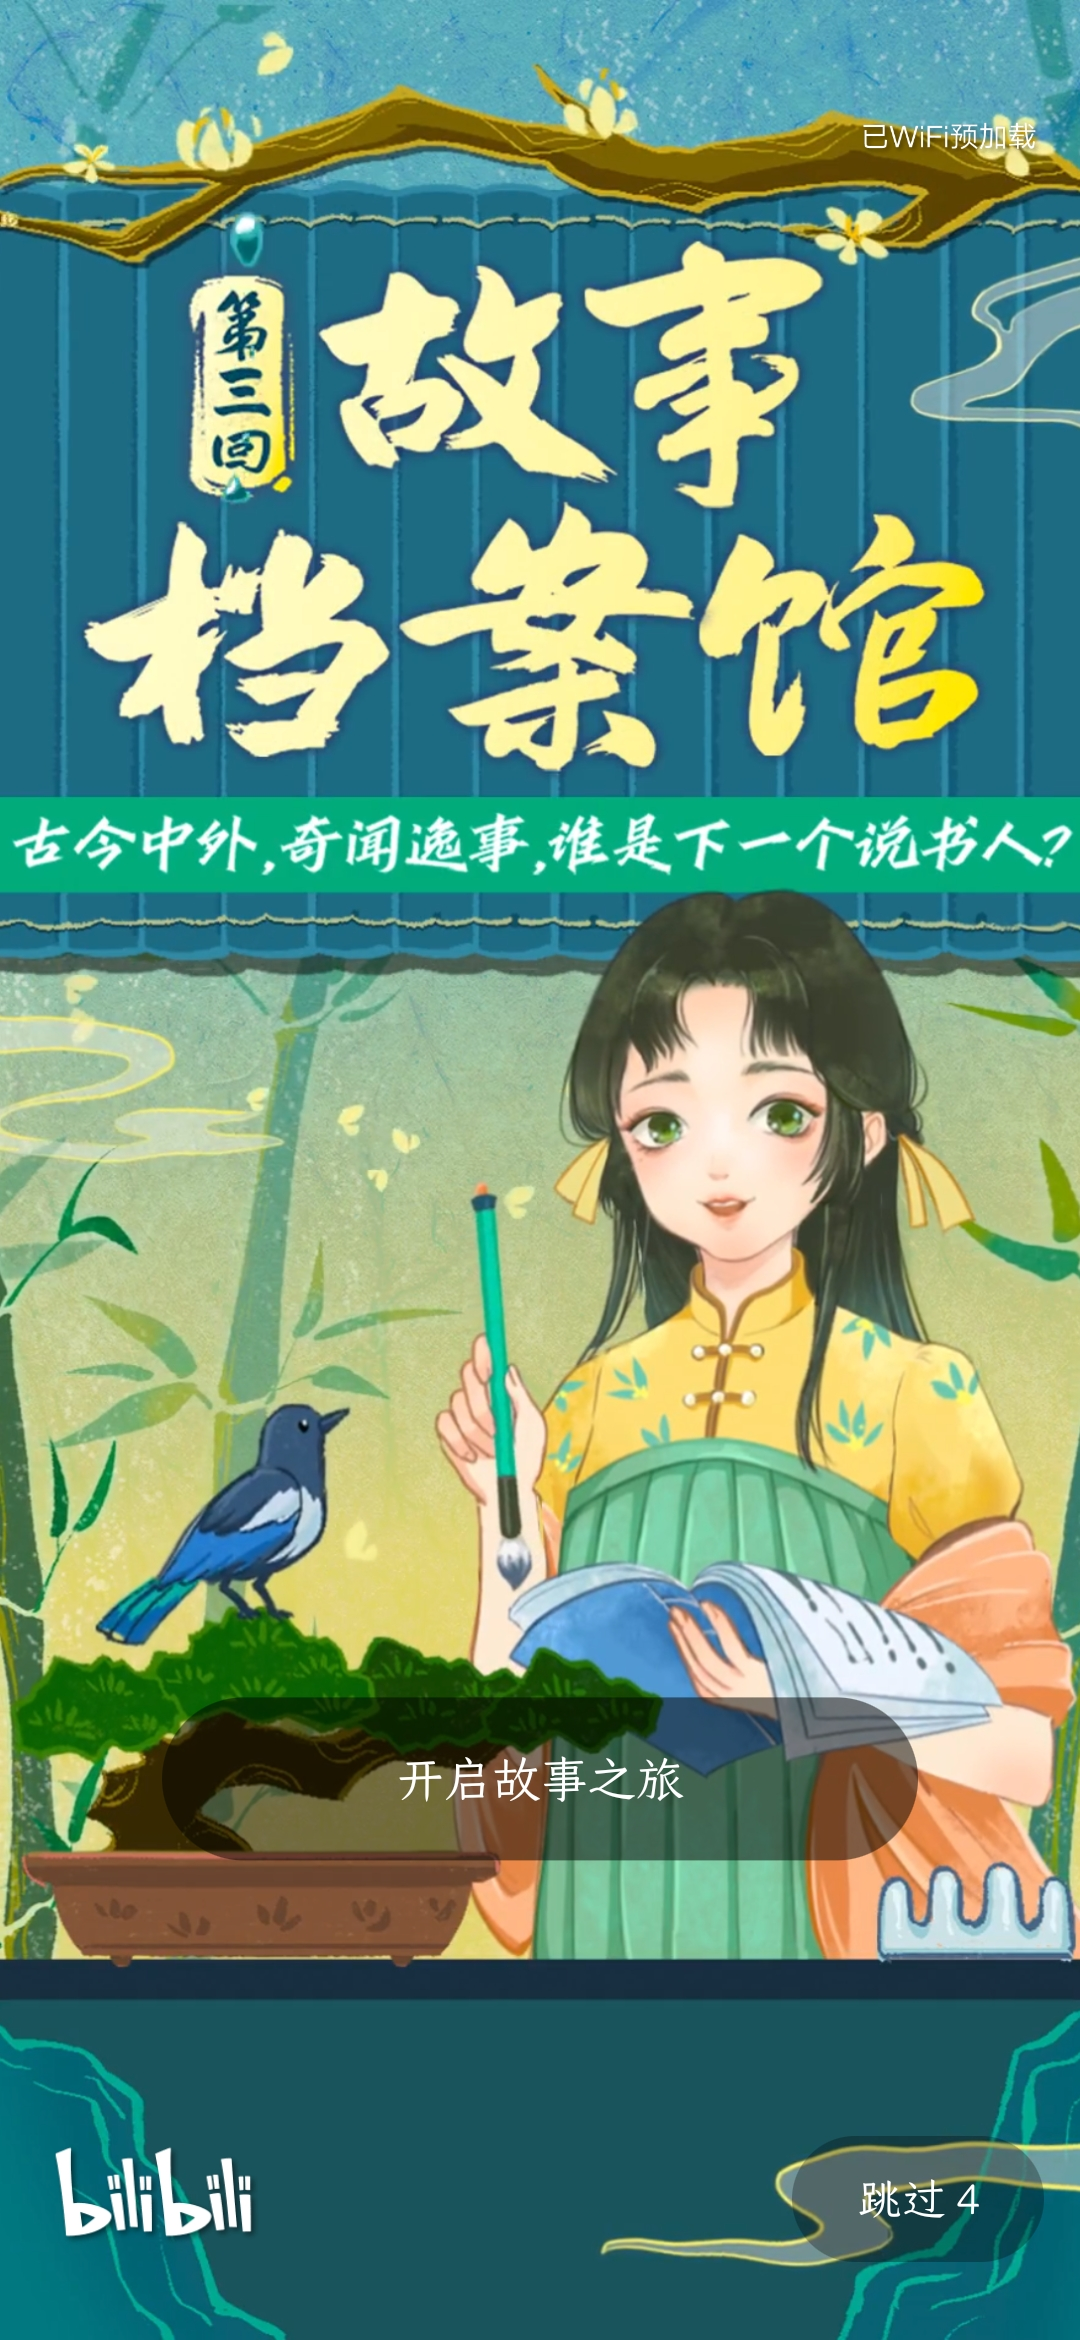skip: (816, 2156, 1016, 2256)
